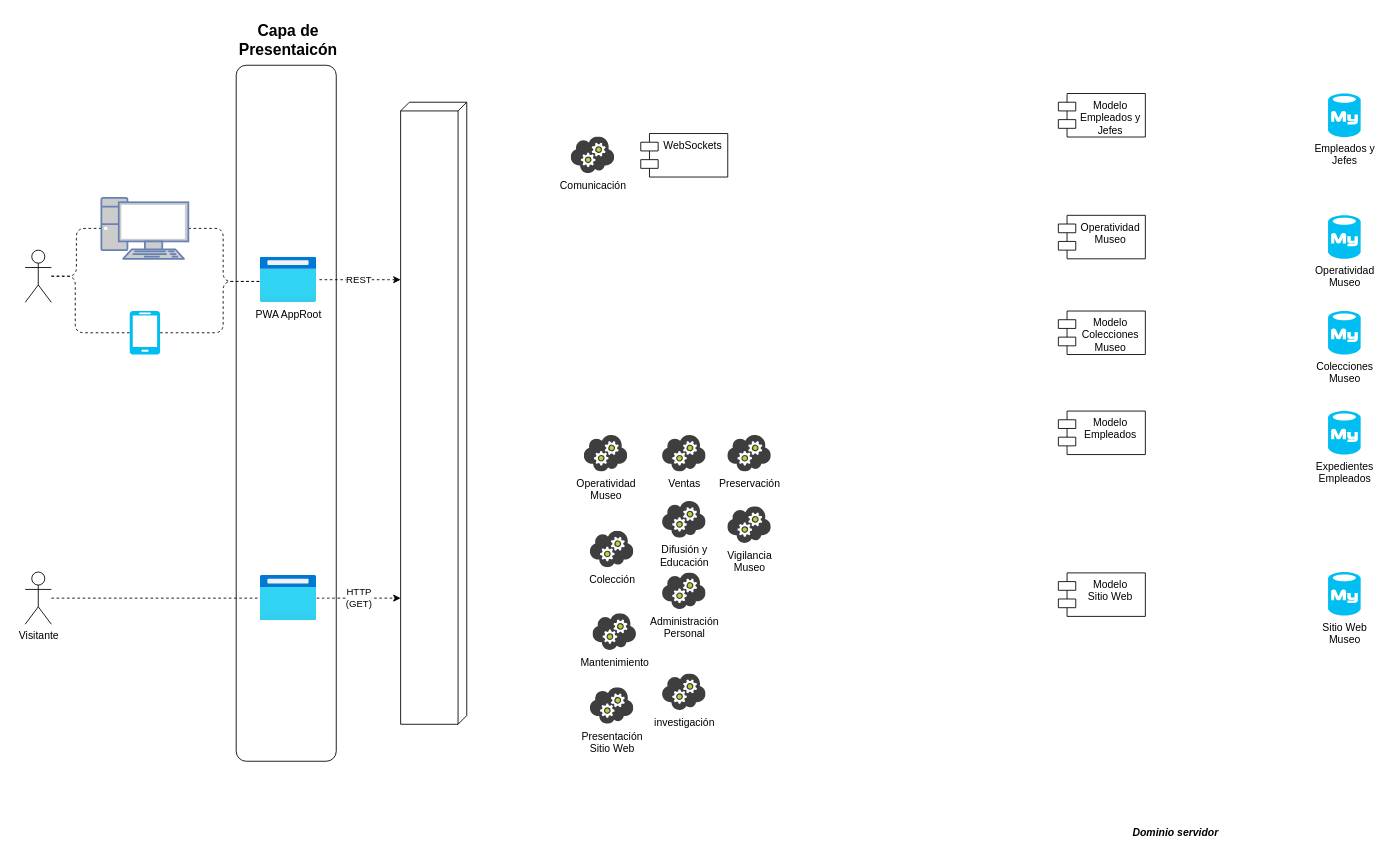
Image size: 1389x860. Some labels were removed from this diagram. Here are the shapes that lost their labels. From the top down, the centre of each, then its label:
point 37,275: Empleado
point 433,412: Middleware (REST Controller)
point 288,597: Navegador Web (Desktop - Mobile)
